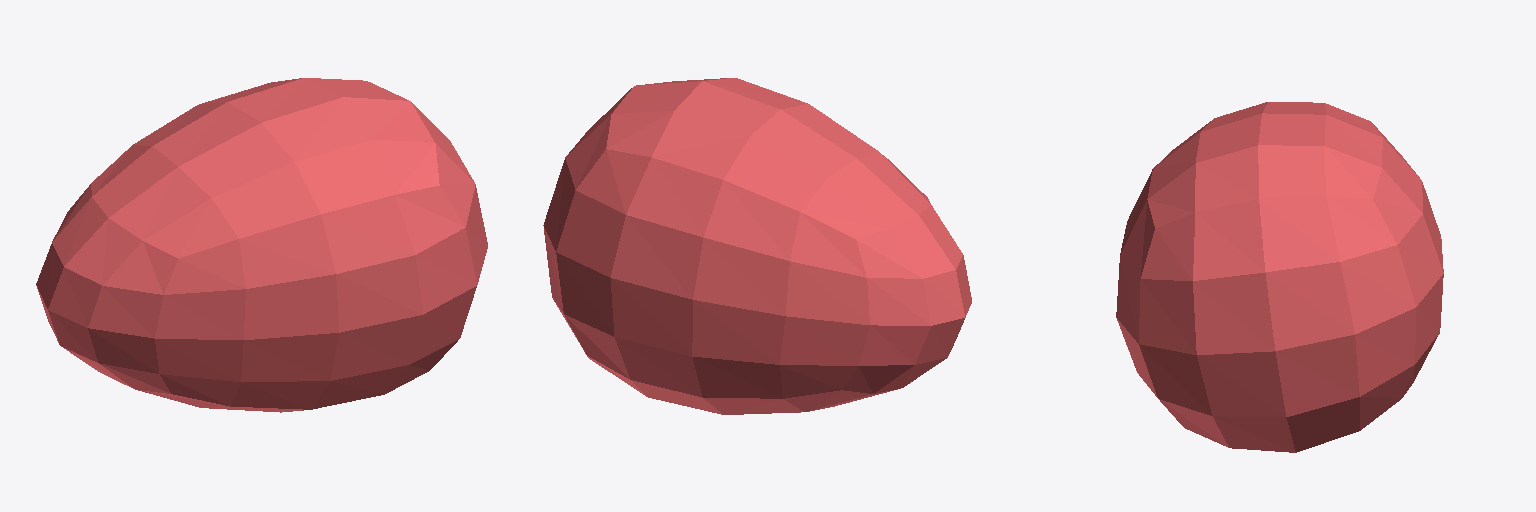
Rendered from manos.obj.
3 views of the same model, side by side, from view 1: azimuth 30°, elevation 25°; view 2: azimuth 150°, elevation 25°; view 3: azimuth 270°, elevation 25° (orthographic).
Visible parts, largest first — view 1: Cube.001; view 2: Cube.001; view 3: Cube.001.
Part boxes in pixels (x1,y1,x2,y2): Cube.001: (36, 78, 487, 412); Cube.001: (543, 78, 971, 414); Cube.001: (1116, 102, 1443, 452).
Size of the model in its own units: 1.06 by 0.7392 by 0.7406.